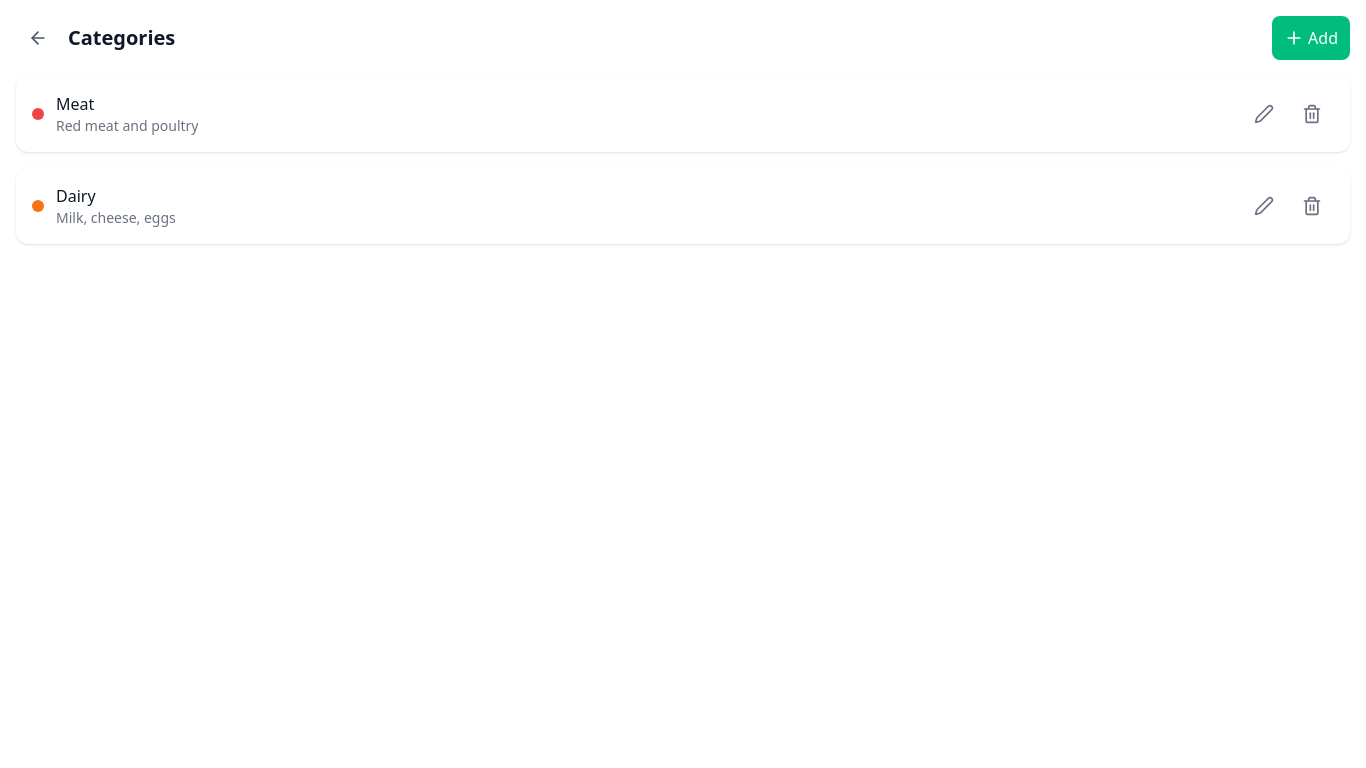
Test case: CategoriesPage › pins in-use category copy: Can't delete Meat — 1 template still use this category.
Click the button named "delete meat" at point(1312, 114), box [1290,92,1334,136]
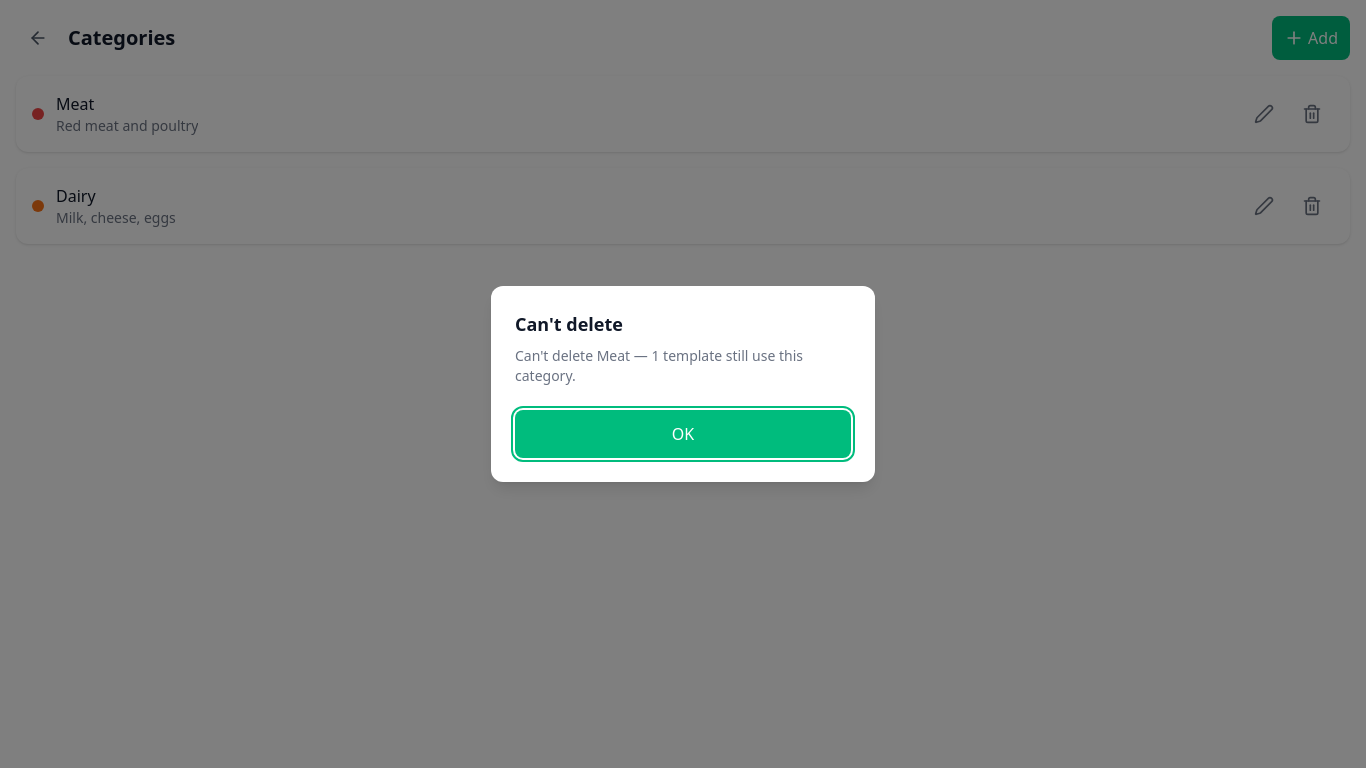
Result: the text "Can't delete Meat — 1 template still use this category." is shown at [515,346,851,386]
Result: the button "OK" is shown at [515,410,851,458]
